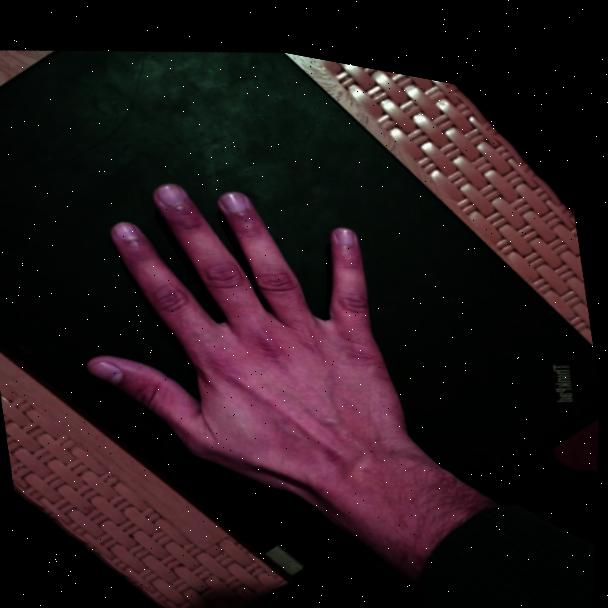five: (48, 119, 415, 520)
